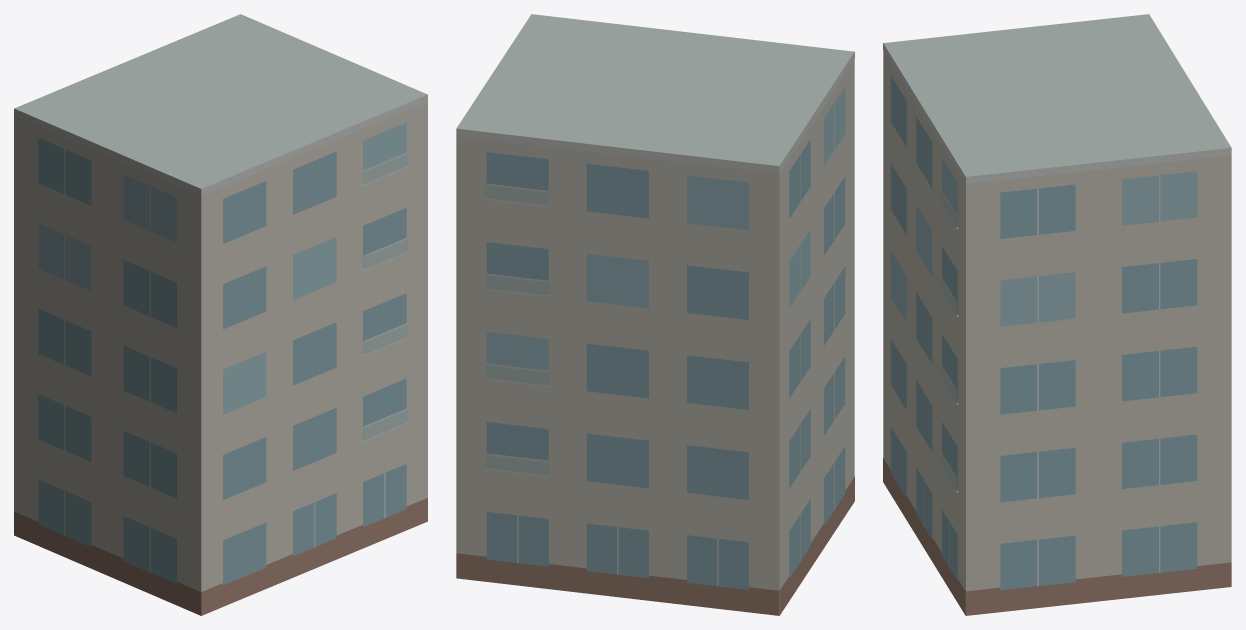
The model's file is survey-upis-32693643.glb.
The picture shows the model from 3 angles, left to right: view 1: azimuth 30°, elevation 25°; view 2: azimuth 150°, elevation 25°; view 3: azimuth 270°, elevation 25°; orthographic projection. The views are drawn at different scales.
Visible parts, largest first — view 1: survey-upis-32693643.tmp; view 2: survey-upis-32693643.tmp; view 3: survey-upis-32693643.tmp.
Part boxes in pixels (bbox=[...]): survey-upis-32693643.tmp: bbox=[14, 14, 427, 615]; survey-upis-32693643.tmp: bbox=[456, 14, 854, 615]; survey-upis-32693643.tmp: bbox=[883, 14, 1231, 615].
Size of the model in its own units: 11.59 by 14.55 by 10.48.
